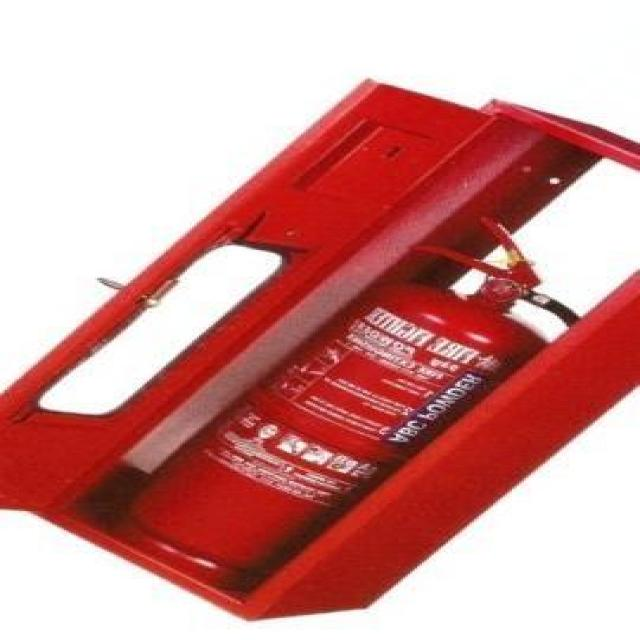fire_extinguisher: (94, 211, 596, 599)
